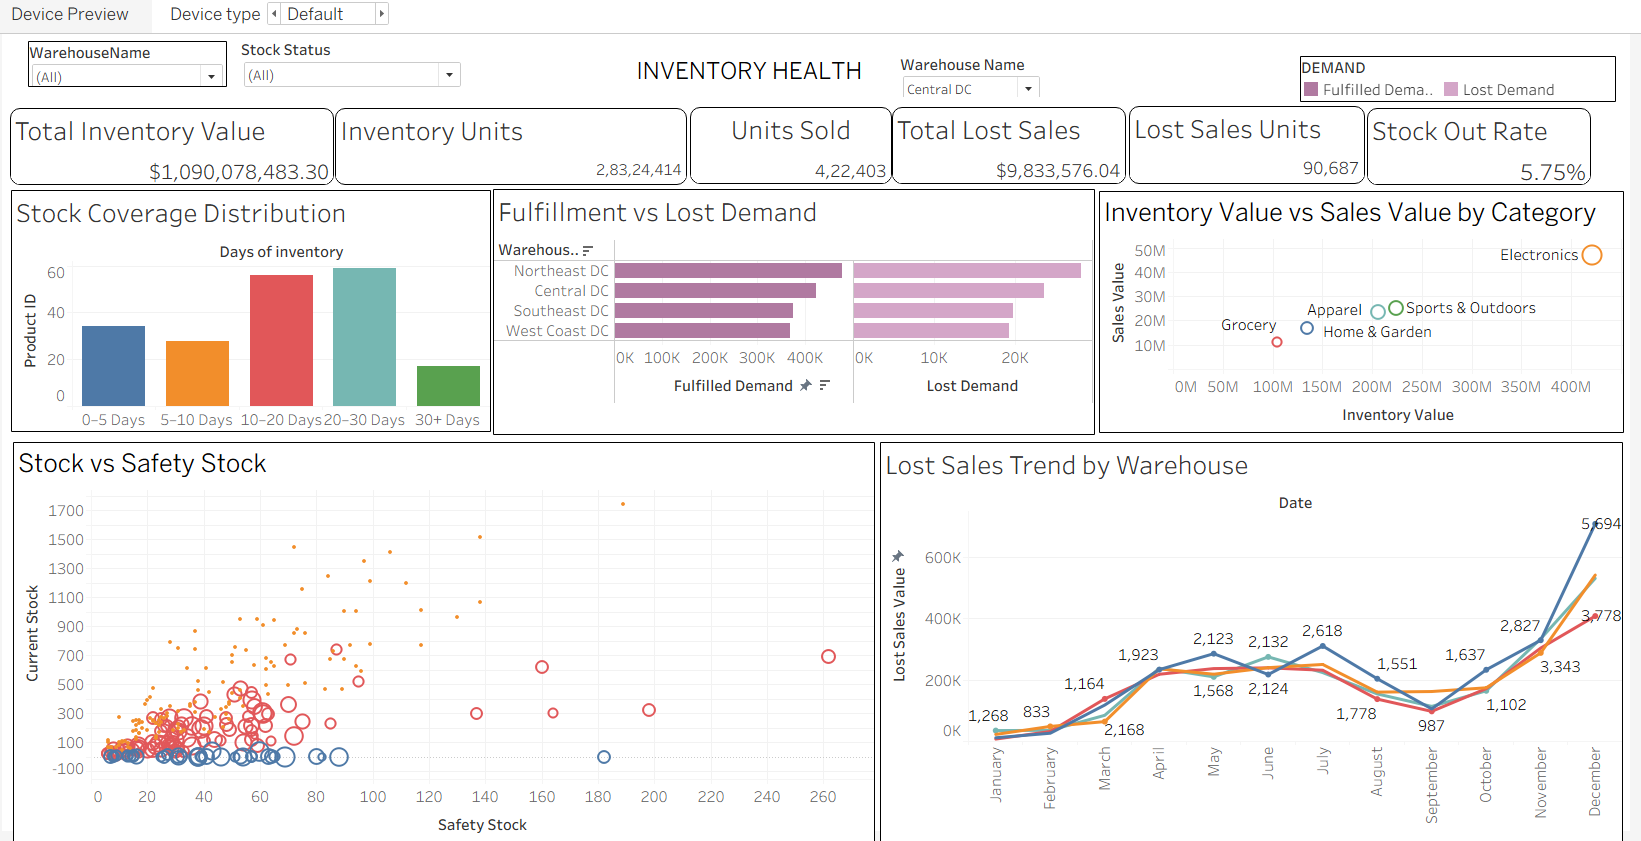

The page's visual inventory and layout, read from the dashboard file:
{"tool":"tableau","page":{"name":"Dashboard 2","canvas":[1000,1000],"units":"permille","ordinal":1},"visuals":[{"type":"filter","title":"Stock Coverage Distribution","param":"[federated.1yzdc2c00ja9bw13nnmf20dqdd4y].[none:StockStatus:nk]","box":[146.8,6.3,137,62.7]},{"type":"filter","title":"Stock Coverage Distribution","param":"[federated.1yzdc2c00ja9bw13nnmf20dqdd4y].[none:WarehouseName (Optimization!Data)","box":[16,8.8,122.2,57.7]},{"type":"text","box":[387.6,11.3,180.6,67.8]},{"type":"filter","title":"Units Sold","param":"[federated.1yzdc2c00ja9bw13nnmf20dqdd4y].[none:WarehouseName:nk]","box":[551.6,25.1,87.8,54]},{"type":"legend","title":"Fulfillment vs Lost Demand","param":"[federated.1yzdc2c00ja9bw13nnmf20dqdd4y].[:Measure Names]","box":[797.3,27.6,194.1,57.7]},{"type":"worksheet","title":"Lost Sales Units","mark":"Automatic","box":[692.3,90.3,145,97.9]},{"type":"worksheet","title":"Units Sold","mark":"Automatic","box":[422.6,91.6,124.1,96.6]},{"type":"worksheet","title":"Exec LostSales","mark":"Automatic","box":[546.7,91.6,143.7,96.6]},{"type":"worksheet","title":"Exec-Inventoryvalue","mark":"Text","box":[4.9,92.9,199,96.6]},{"type":"worksheet","title":"Inventory Units","mark":"Automatic","box":[204.6,92.9,216.2,96.6]},{"type":"worksheet","title":"exec stockoutrate","mark":"Automatic","box":[838.5,92.9,137.6,96.6]},{"type":"worksheet","title":"Fulfillment vs Lost Demand","mark":"Bar","rows":["WarehouseName"],"cols":["FulfilledDemand","LostDemand"],"box":[301.6,194.5,369.8,308.7]},{"type":"worksheet","title":"Stock Coverage Distribution","mark":"Automatic","rows":["ProductID"],"cols":["Calculation_1213624398712837"],"box":[5.4,195.7,294.8,303.6]},{"type":"worksheet","title":"Sheet 22","mark":"Automatic","rows":["SalesValue"],"cols":["InventoryValue"],"box":[673.8,197,322.5,303.6]}]}

Visuals, with their boxes on the dashboard's canvas, which has no fixed pixel size, in thousandths of its width and height (x1, y1, x2, y2). These are canvas units, not pixel positions in the 1641x841 screenshot, which may show the page scaled, cropped or inside an application window:
"Stock Coverage Distribution" filter: detection(147, 6, 284, 69)
"Stock Coverage Distribution" filter: detection(16, 9, 138, 66)
text: detection(388, 11, 568, 79)
"Units Sold" filter: detection(552, 25, 639, 79)
"Fulfillment vs Lost Demand" legend: detection(797, 28, 991, 85)
"Lost Sales Units" worksheet: detection(692, 90, 837, 188)
"Units Sold" worksheet: detection(423, 92, 547, 188)
"Exec LostSales" worksheet: detection(547, 92, 690, 188)
"Exec-Inventoryvalue" worksheet (Text marks): detection(5, 93, 204, 190)
"Inventory Units" worksheet: detection(205, 93, 421, 190)
"exec stockoutrate" worksheet: detection(838, 93, 976, 190)
"Fulfillment vs Lost Demand" worksheet (Bar marks): detection(302, 194, 671, 503)
"Stock Coverage Distribution" worksheet: detection(5, 196, 300, 499)
"Sheet 22" worksheet: detection(674, 197, 996, 501)
